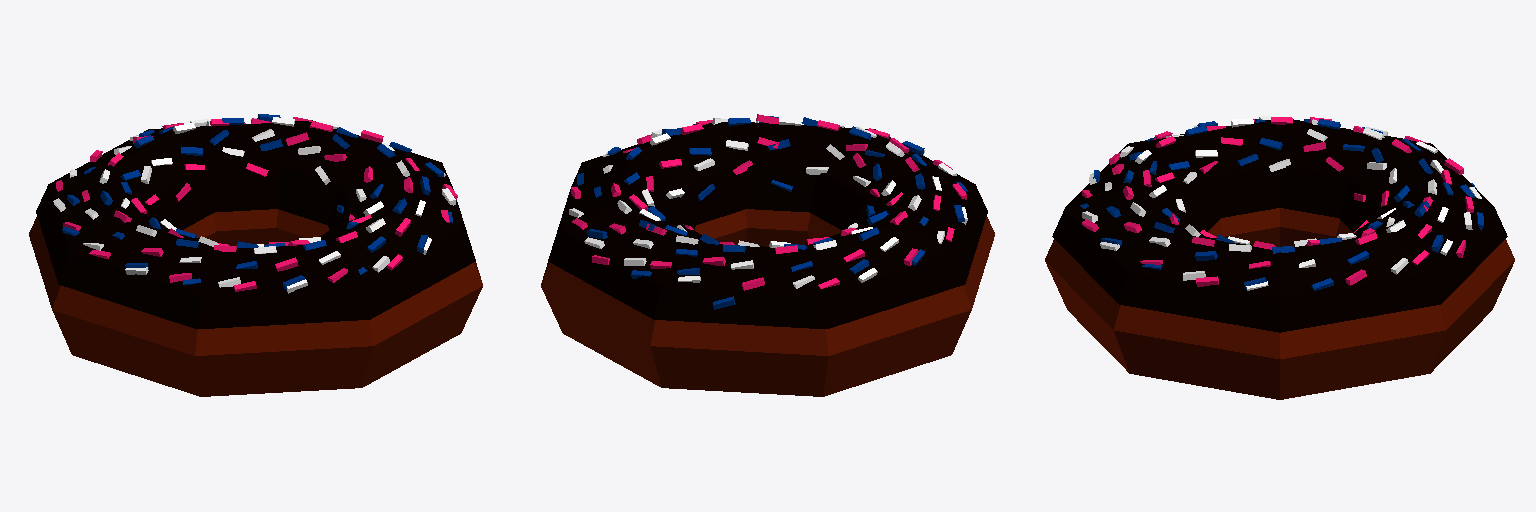
The model's file is donut.obj.
3 renders of one model, left to right at view 1: azimuth 30°, elevation 25°; view 2: azimuth 150°, elevation 25°; view 3: azimuth 270°, elevation 25°, orthographic.
Size of the model in its own units: 3 by 1.06 by 3.